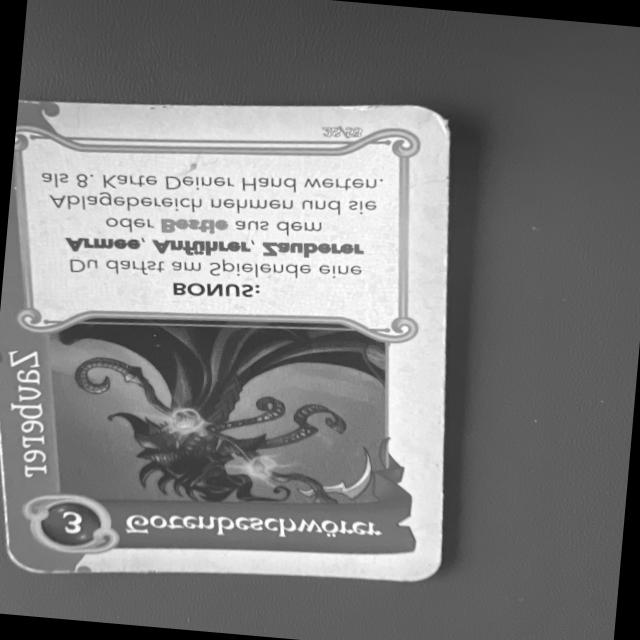Shapeshifter: (0, 96, 455, 579)
